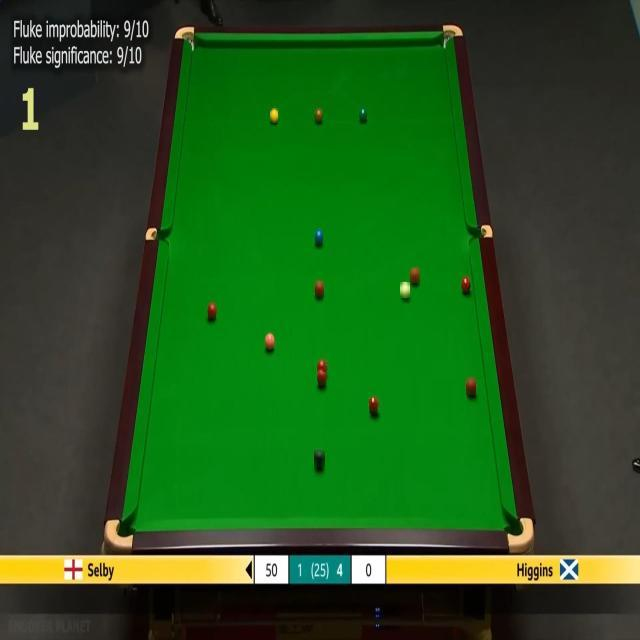Ball: (314, 450, 325, 467), (265, 332, 275, 350), (466, 378, 476, 395), (400, 282, 410, 298), (370, 398, 380, 413), (410, 268, 420, 283), (315, 281, 324, 297), (208, 303, 216, 319), (462, 276, 470, 292), (318, 370, 326, 386), (315, 229, 323, 244), (270, 108, 278, 123), (318, 360, 328, 372), (359, 108, 367, 122), (314, 109, 322, 122)
